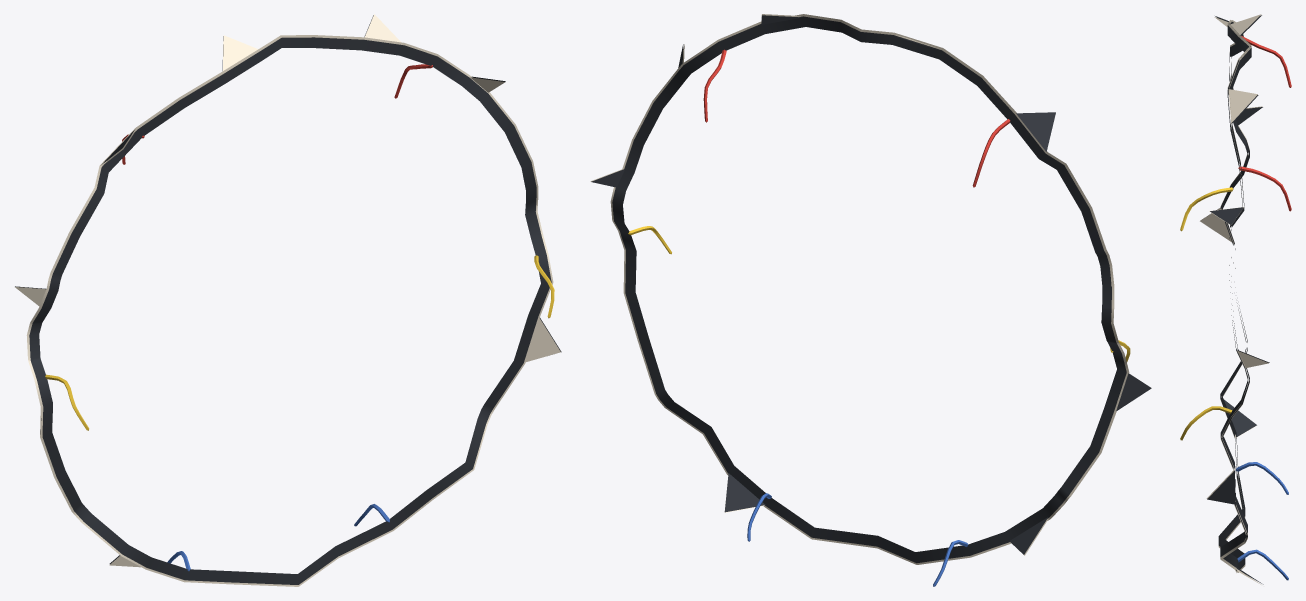
File: RotBordeCola.fbx
The picture shows the model from 3 angles, left to right: view 1: azimuth 30°, elevation 25°; view 2: azimuth 150°, elevation 25°; view 3: azimuth 270°, elevation 25°; orthographic projection. The views are drawn at different scales.
Parts seen in each view (by area): view 1: RotBordeCola; view 2: RotBordeCola; view 3: RotBordeCola.
Part boxes in pixels (x1,y1,x2,y2): RotBordeCola: [15, 14, 561, 586]; RotBordeCola: [590, 14, 1151, 586]; RotBordeCola: [1180, 14, 1291, 584].
Bounding box in the file's own units: 18.26 × 17.91 × 3.55.
1 material, 1 textured.
